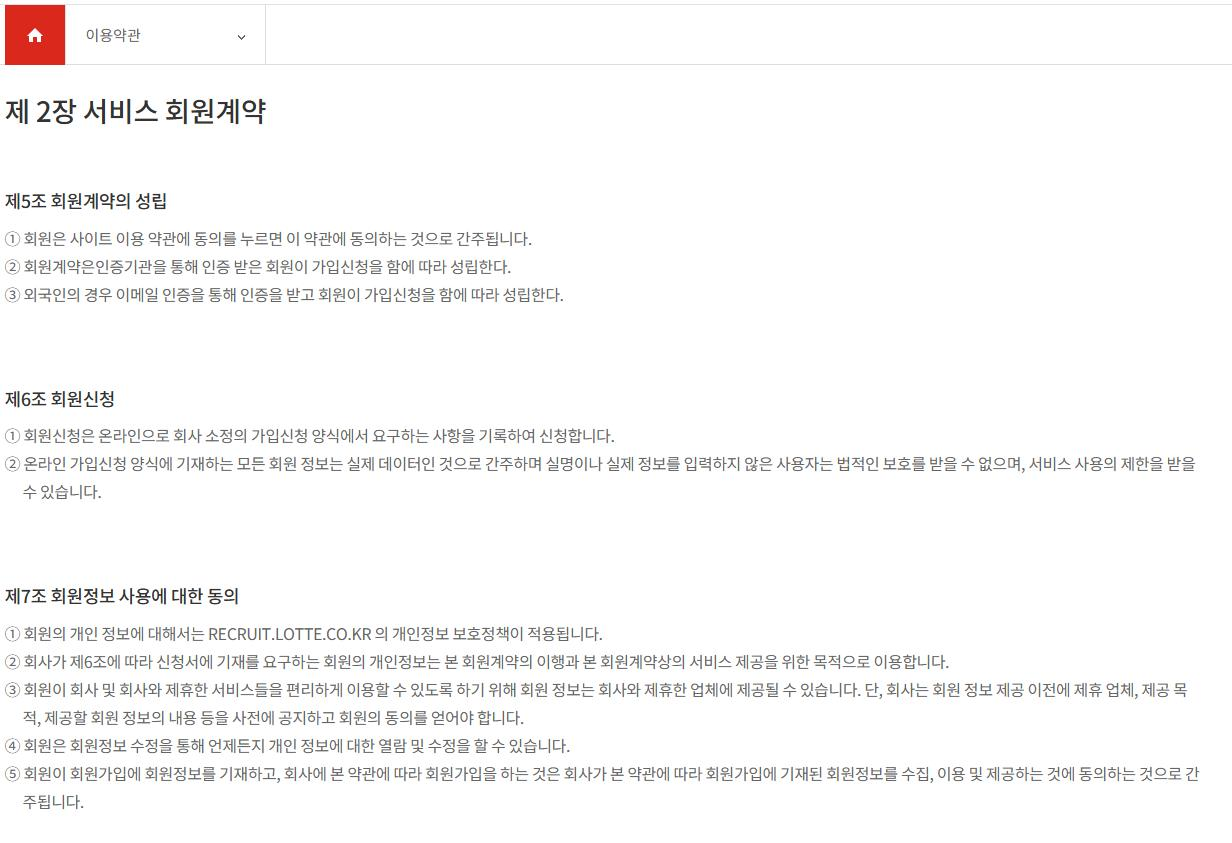button: (1, 3, 68, 62)
checkbox: (73, 6, 266, 68)
